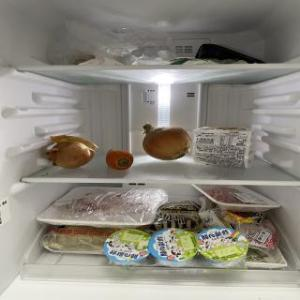carrot: (104, 146, 132, 174)
onion: (136, 123, 190, 167), (38, 135, 94, 169)
